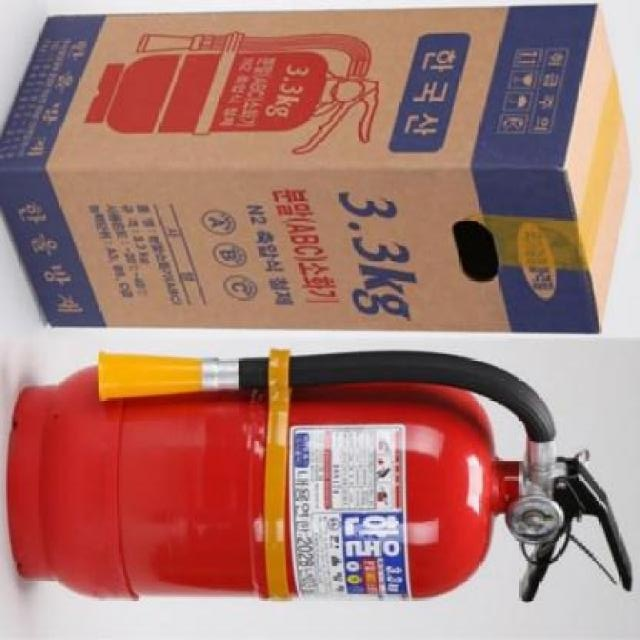fire extinguisher: (8, 348, 634, 603)
